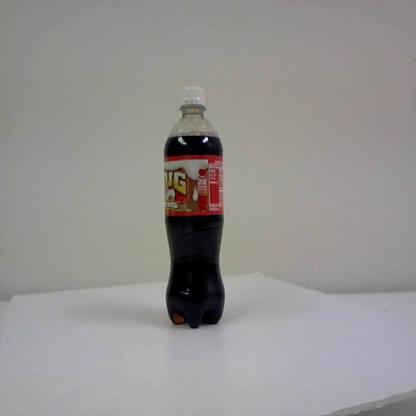bottle: (160, 82, 226, 330)
